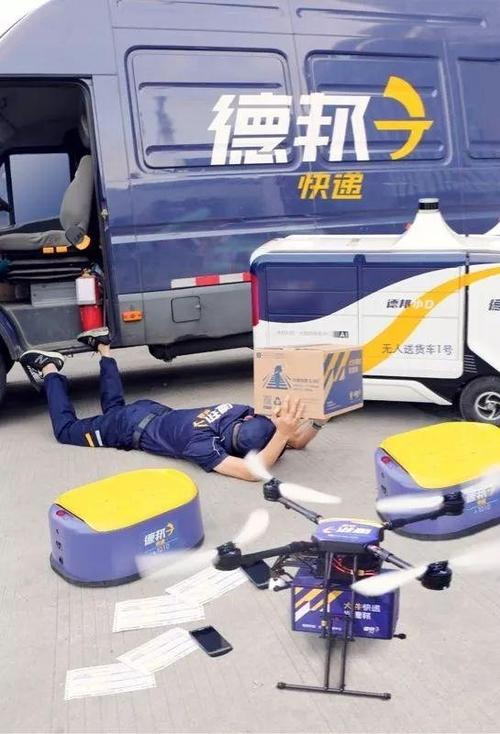fall: (20, 324, 330, 481)
